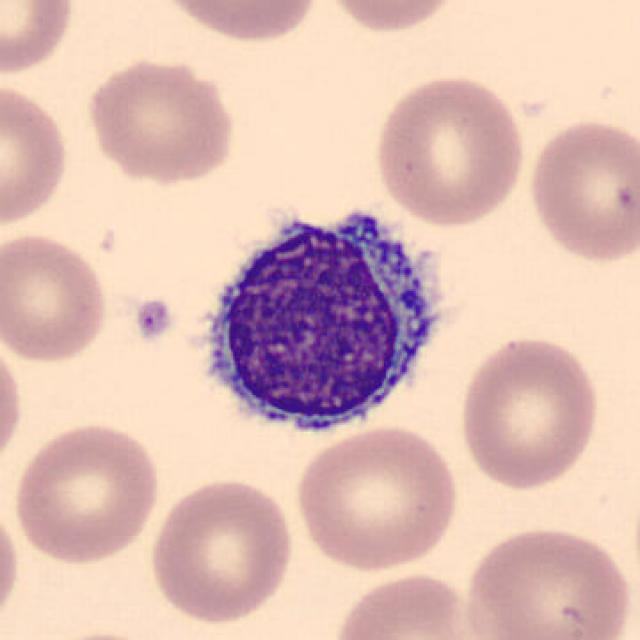Lymphocyte: (183, 193, 453, 452)
Platelets: (133, 294, 176, 344)
RBC: (290, 421, 462, 575), (370, 71, 530, 229), (455, 332, 603, 494), (146, 474, 298, 626), (9, 418, 163, 566), (82, 53, 240, 187), (460, 522, 634, 640), (523, 113, 638, 266), (0, 229, 112, 367), (327, 569, 491, 640), (0, 79, 73, 231), (150, 0, 323, 46), (0, 0, 78, 78), (316, 0, 466, 37), (0, 333, 27, 476), (0, 497, 23, 635)
